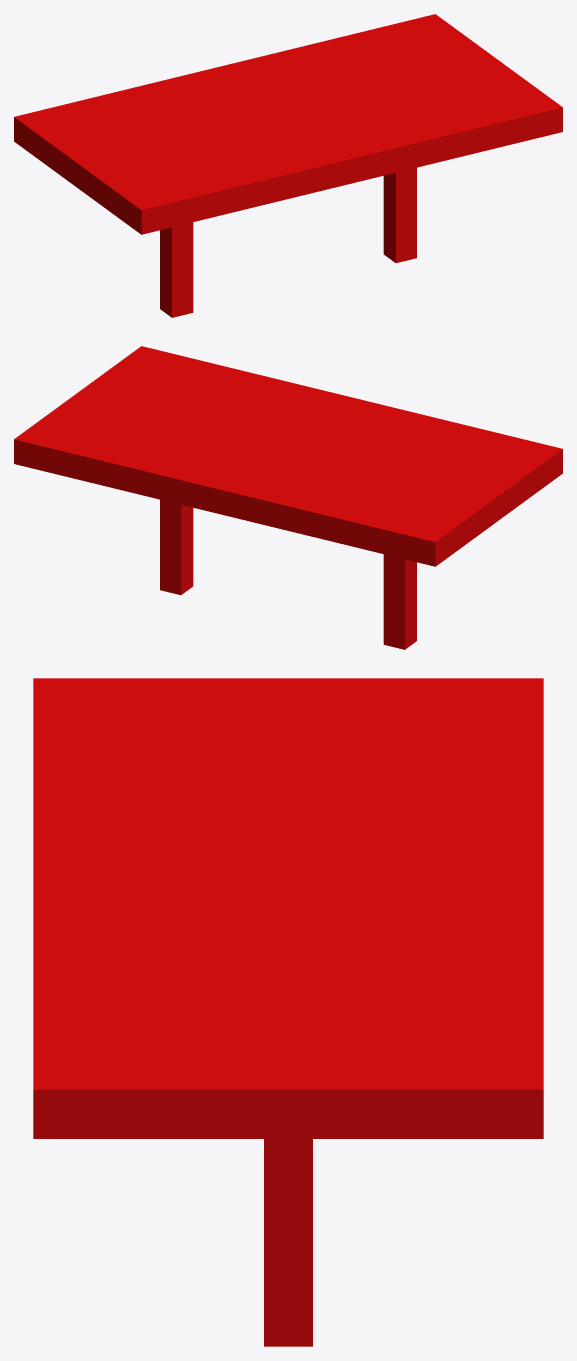
Rendered from SM_Prop_Gaspump_Cover_01_Collision.fbx.
3 renders of one model, top to bottom at view 1: azimuth 30°, elevation 25°; view 2: azimuth 150°, elevation 25°; view 3: azimuth 270°, elevation 25°, orthographic. The views are drawn at different scales.
Parts seen in each view (by area): view 1: SM_Prop_Gaspump_Cover_01_Collision; view 2: SM_Prop_Gaspump_Cover_01_Collision; view 3: SM_Prop_Gaspump_Cover_01_Collision.
Part boxes in pixels (x1,y1,x2,y2): SM_Prop_Gaspump_Cover_01_Collision: (14, 14, 562, 317); SM_Prop_Gaspump_Cover_01_Collision: (14, 346, 562, 649); SM_Prop_Gaspump_Cover_01_Collision: (33, 678, 543, 1346).
Size of the model in its own units: 1338 by 520 by 701.
